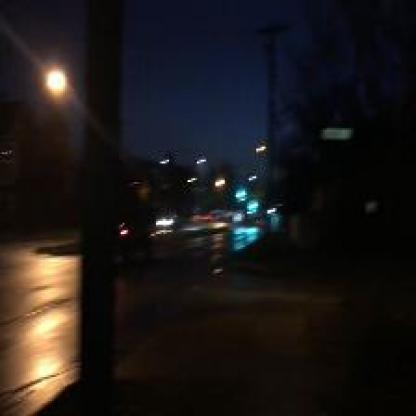other: (18, 61, 79, 105)
